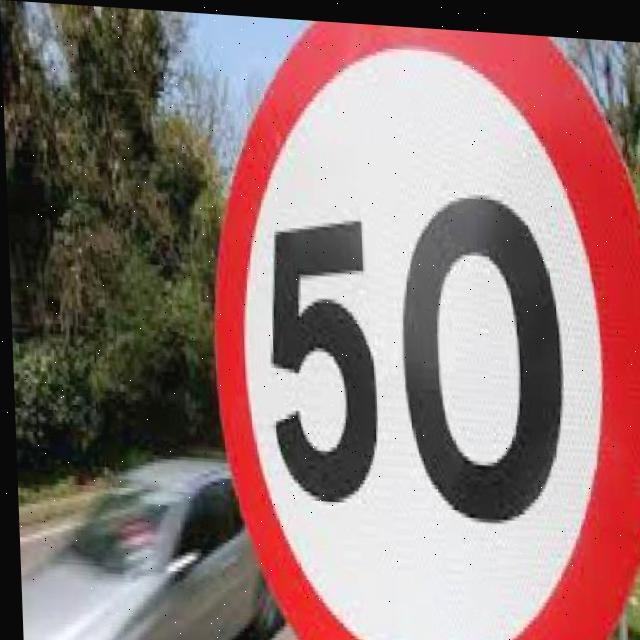Speed limit 50: (197, 11, 640, 640)
